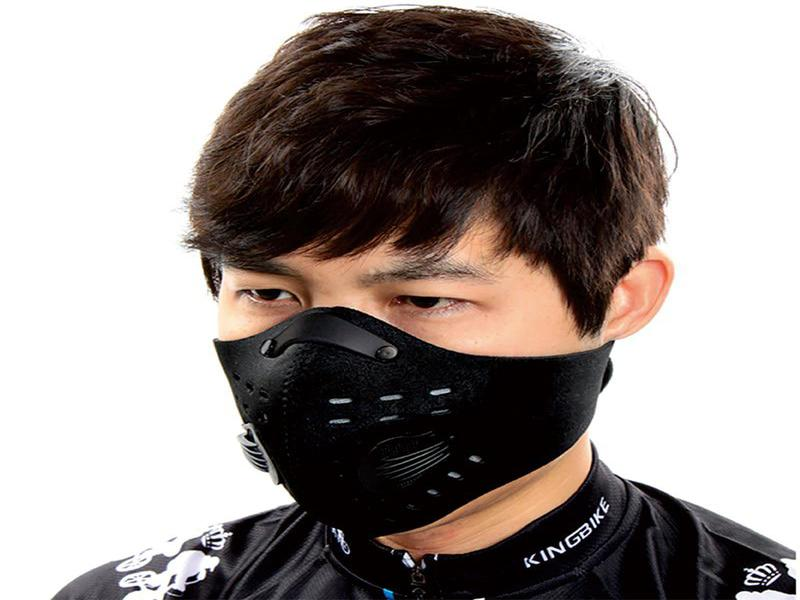with_mask: (183, 7, 670, 549)
